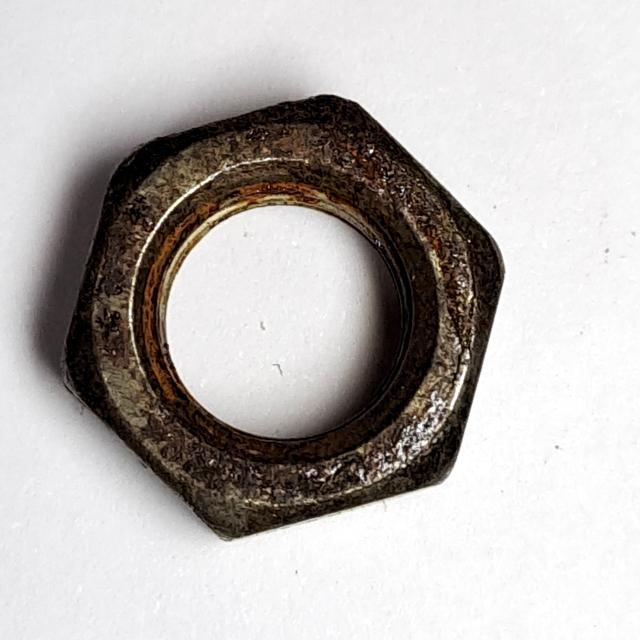Rust: (47, 87, 514, 551)
